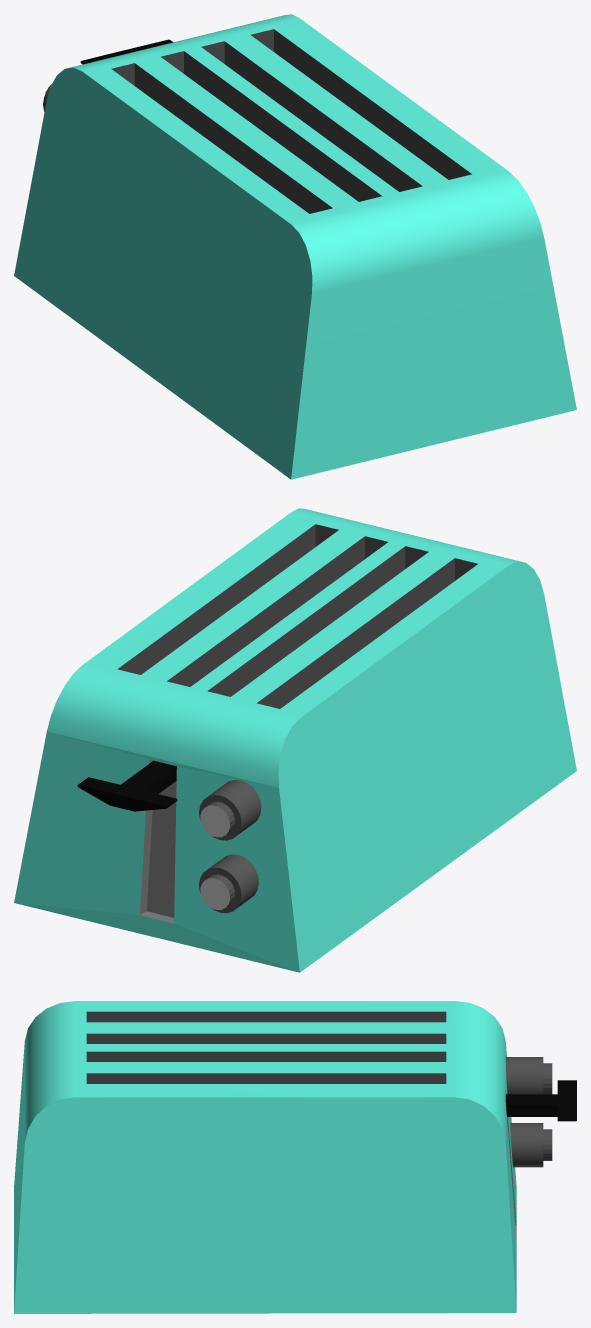
Rendered from Toaster Model Texture.fbx.
3 renders of one model, top to bottom at view 1: azimuth 30°, elevation 25°; view 2: azimuth 150°, elevation 25°; view 3: azimuth 270°, elevation 25°, orthographic. The views are drawn at different scales.
Parts seen in each view (by area): view 1: Toaster_Base; view 2: Toaster_Base, Toaster_handle, Toaster_Knob, Toaster_Knob1; view 3: Toaster_Base, Toaster_handle, Toaster_Knob1, Toaster_Knob.
Boxes of the visible parts, bbox=[...] form: Toaster_Base: bbox=[14, 14, 576, 479]; Toaster_Base: bbox=[14, 508, 576, 972]; Toaster_handle: bbox=[77, 760, 177, 811]; Toaster_Knob: bbox=[199, 780, 261, 840]; Toaster_Knob1: bbox=[199, 854, 258, 913]; Toaster_Base: bbox=[14, 1001, 516, 1313]; Toaster_handle: bbox=[505, 1080, 576, 1121]; Toaster_Knob1: bbox=[510, 1123, 552, 1167]; Toaster_Knob: bbox=[505, 1057, 552, 1094].
Bounding box in the file's own units: 12.11 × 8.99 × 22.76.
